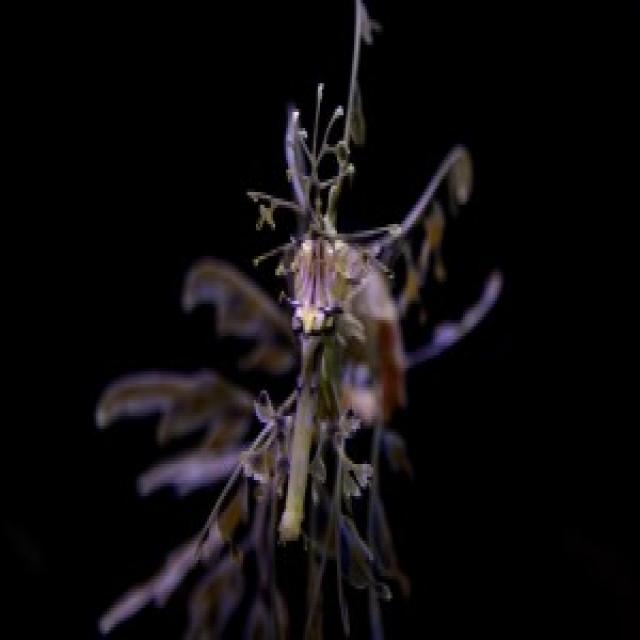Seahorse: (114, 110, 481, 640)
